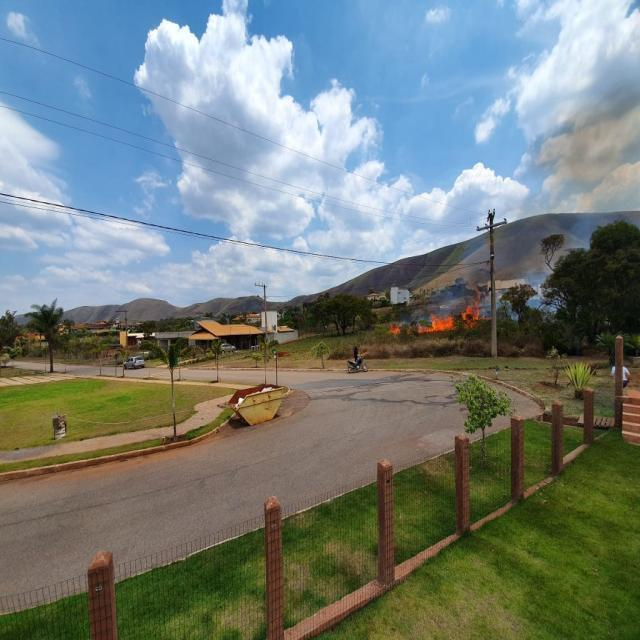Fire: (462, 287, 482, 330), (419, 314, 455, 334), (390, 324, 402, 334)
